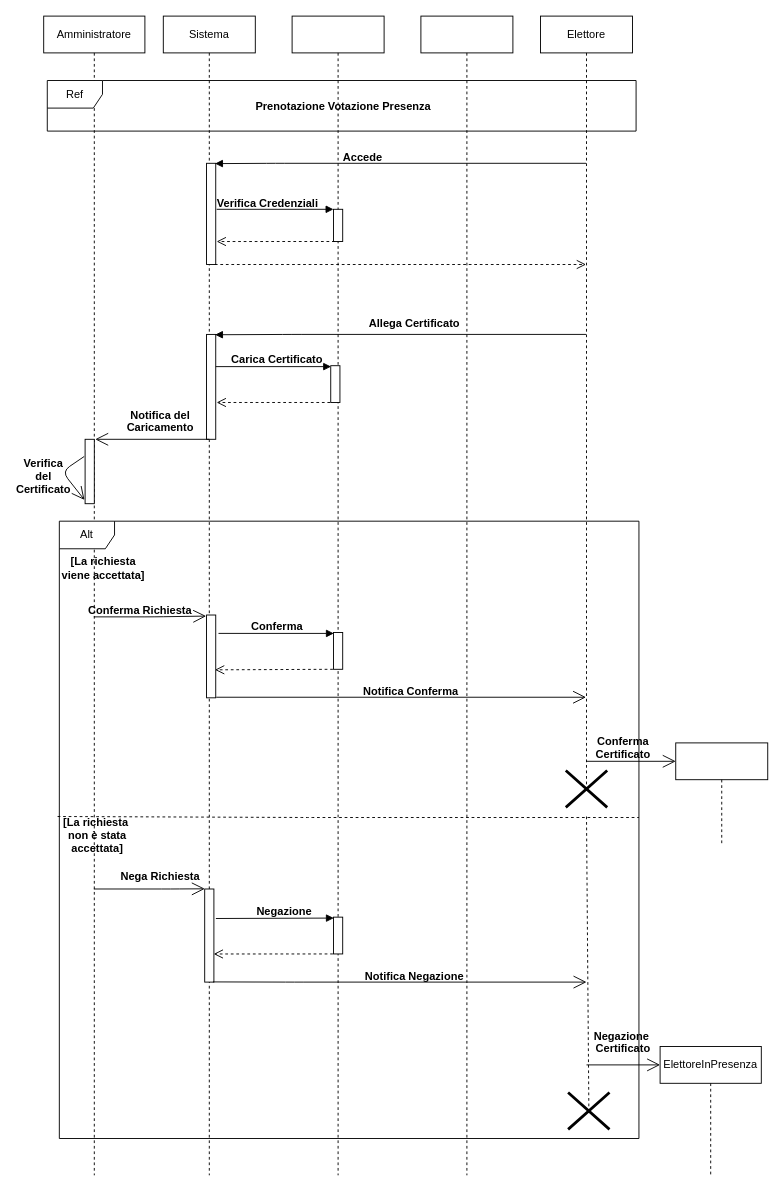
This 784x1191 diagram has some shape labels left out. The box of each missing label's shape, as (x1, y1, x2, y2) in pixels:
Database: (291, 15, 384, 1175)
ElettoreOnline: (675, 742, 768, 844)
Evento: (420, 15, 513, 1175)
